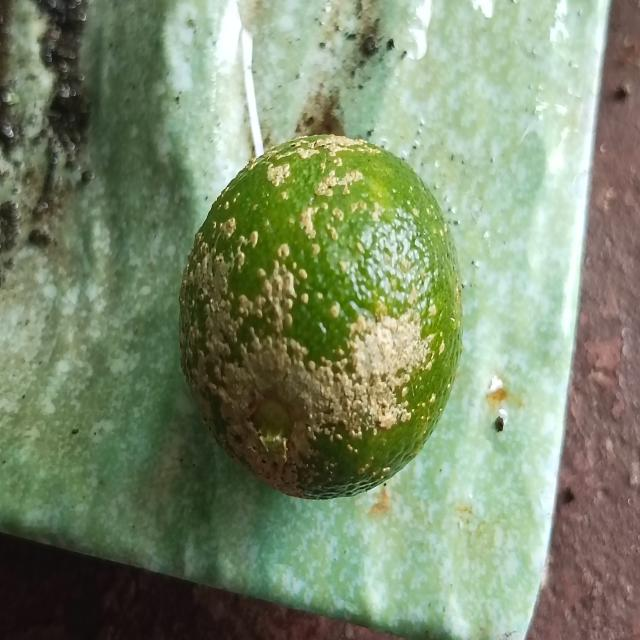scab: (172, 125, 464, 502)
